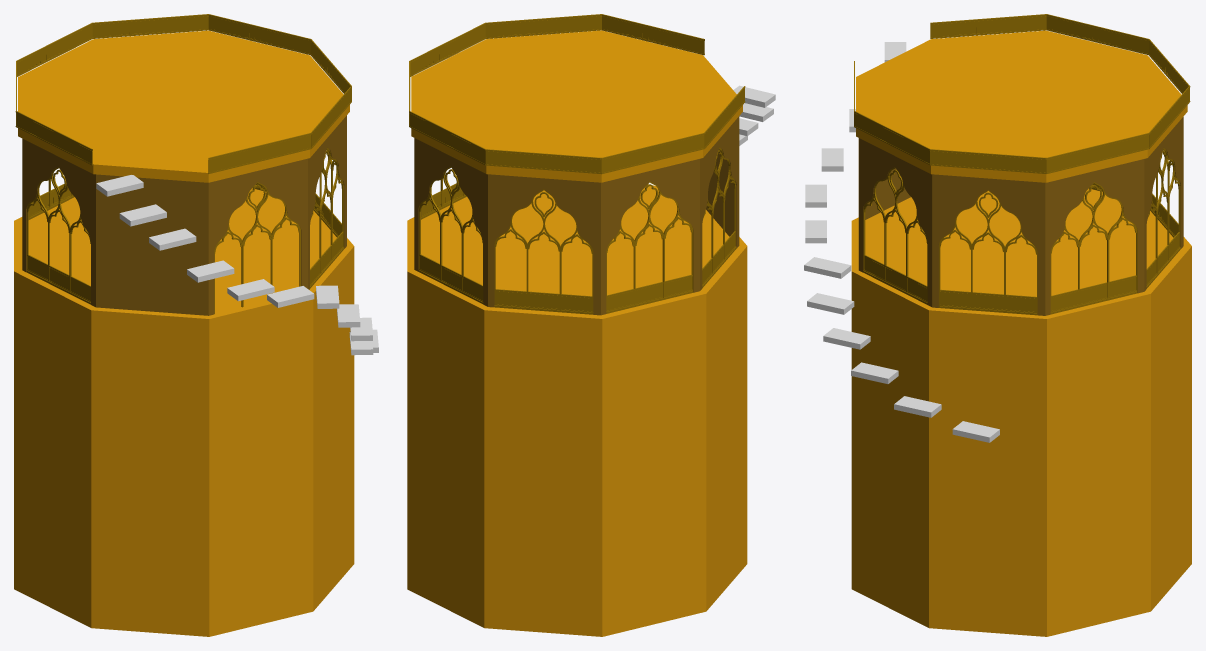
File: Wierza222.fbx
The picture shows the model from 3 angles, left to right: view 1: azimuth 30°, elevation 25°; view 2: azimuth 150°, elevation 25°; view 3: azimuth 270°, elevation 25°; orthographic projection.
Visible parts, largest first — view 1: Cylinder.001, Cylinder.002, Cube.002, Cube.006, Cube.001, Cube.012, Cube.013, Cube.014, Cube.015, Cube.016, Cube, Cube.022 (+1 smaller); view 2: Cylinder.001, Cylinder.002, Cube.002, Cube.001, Cube.006; view 3: Cylinder.001, Cylinder.002, Cube.002, Cube.001, Cube.006, Cube.017, Cube.018, Cube.020, Cube.021, Cube.019, Cube.022, Cube.014.
Boxes of the visible parts, x1,y1,x2,y2 form: Cylinder.001: [14, 188, 354, 636]; Cylinder.002: [18, 30, 349, 182]; Cube.002: [22, 115, 346, 315]; Cube.006: [15, 14, 351, 173]; Cube.001: [26, 148, 344, 313]; Cube.012: [119, 204, 166, 226]; Cube.013: [149, 228, 196, 250]; Cube.014: [187, 260, 234, 282]; Cube.015: [227, 279, 274, 301]; Cube.016: [267, 286, 314, 307]; Cube: [96, 175, 143, 196]; Cube.022: [316, 285, 339, 308]; Cylinder.001: [407, 185, 747, 636]; Cylinder.002: [411, 30, 742, 182]; Cube.002: [414, 116, 739, 315]; Cube.001: [418, 147, 736, 314]; Cube.006: [409, 14, 745, 174]; Cylinder.001: [851, 188, 1191, 636]; Cylinder.002: [856, 30, 1187, 182]; Cube.002: [858, 117, 1183, 315]; Cube.001: [863, 148, 1180, 315]; Cube.006: [854, 14, 1190, 173]; Cube.017: [952, 421, 999, 442]; Cube.018: [894, 396, 941, 417]; Cube.020: [823, 328, 870, 349]; Cube.021: [807, 293, 854, 314]; Cube.019: [851, 362, 898, 383]; Cube.022: [804, 257, 851, 278]; Cube.014: [821, 148, 843, 171].
Bounding box in the file's own units: 1199 × 1696 × 1248.
